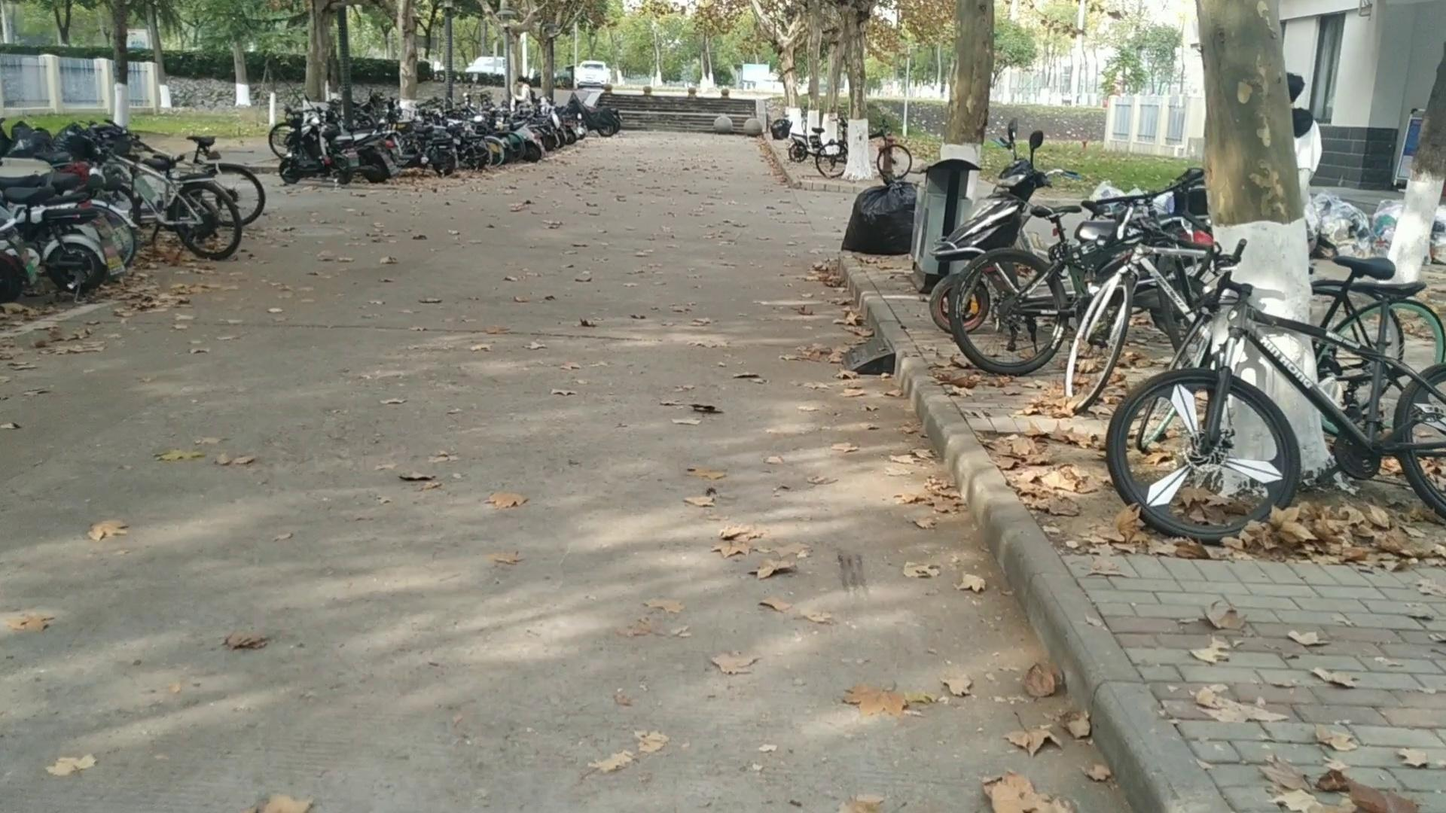car: (465, 55, 509, 80)
